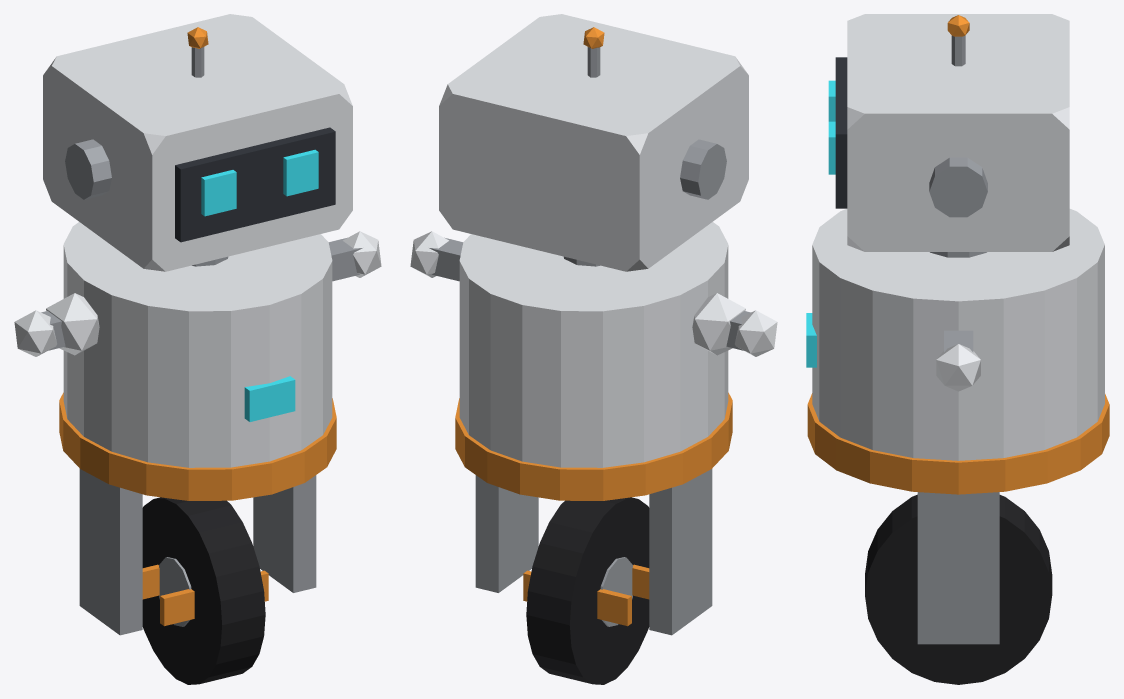
The model's file is player.glb.
3 views of the same model, side by side, from view 1: azimuth 30°, elevation 25°; view 2: azimuth 150°, elevation 25°; view 3: azimuth 270°, elevation 25° (orthographic).
Parts seen in each view (by area): view 1: robot_body, robot_head, robot_tire, robot_arms; view 2: robot_body, robot_head, robot_tire, robot_arms; view 3: robot_body, robot_head, robot_tire, robot_arms.
Part boxes in pixels (<box>): robot_body: <box>59,222,336,635</box>; robot_head: <box>43,14,352,271</box>; robot_tire: <box>142,497,268,684</box>; robot_arms: <box>14,231,381,356</box>; robot_body: <box>455,222,732,635</box>; robot_head: <box>439,14,748,271</box>; robot_tire: <box>523,497,649,684</box>; robot_arms: <box>410,231,777,356</box>; robot_body: <box>806,209,1109,644</box>; robot_head: <box>828,14,1069,251</box>; robot_tire: <box>865,494,1052,684</box>; robot_arms: <box>936,330,980,391</box>.
Size of the model in its own units: 0.7 by 1.2 by 0.5.
